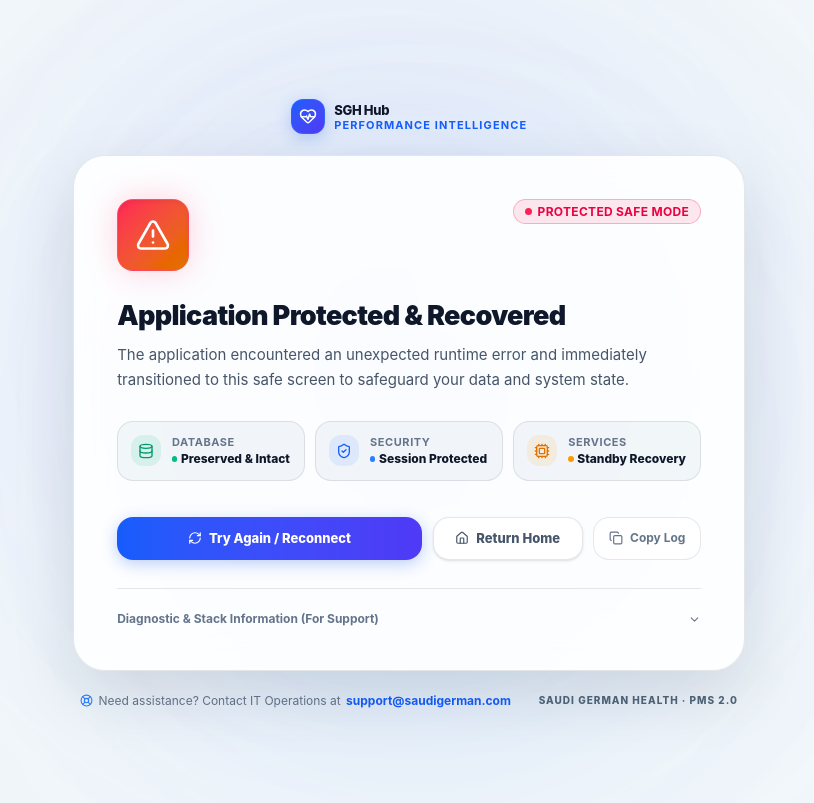
MaintenanceView › renders unexpected error recovery mode correctly with diagnostics
Expected: the heading "Application Protected & Recovered" is shown, [117,299,566,332]
Expected: the text "Protected Safe Mode" is shown, [513,199,701,224]
Expand accordion
Click the button "Diagnostic & Stack Information (For Support)": click(248, 619) [117,611,701,627]
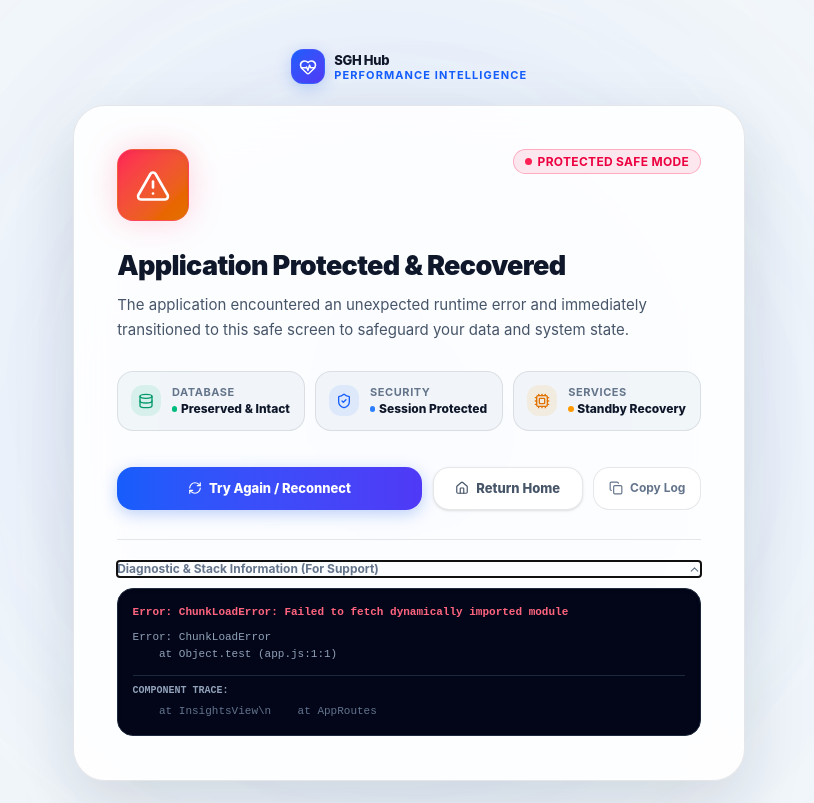
Result: the text "ChunkLoadError: Failed to fetch dynamically imported module" is shown at [179,606,568,618]
Result: the text "Component Trace:" is shown at [133,685,229,696]
